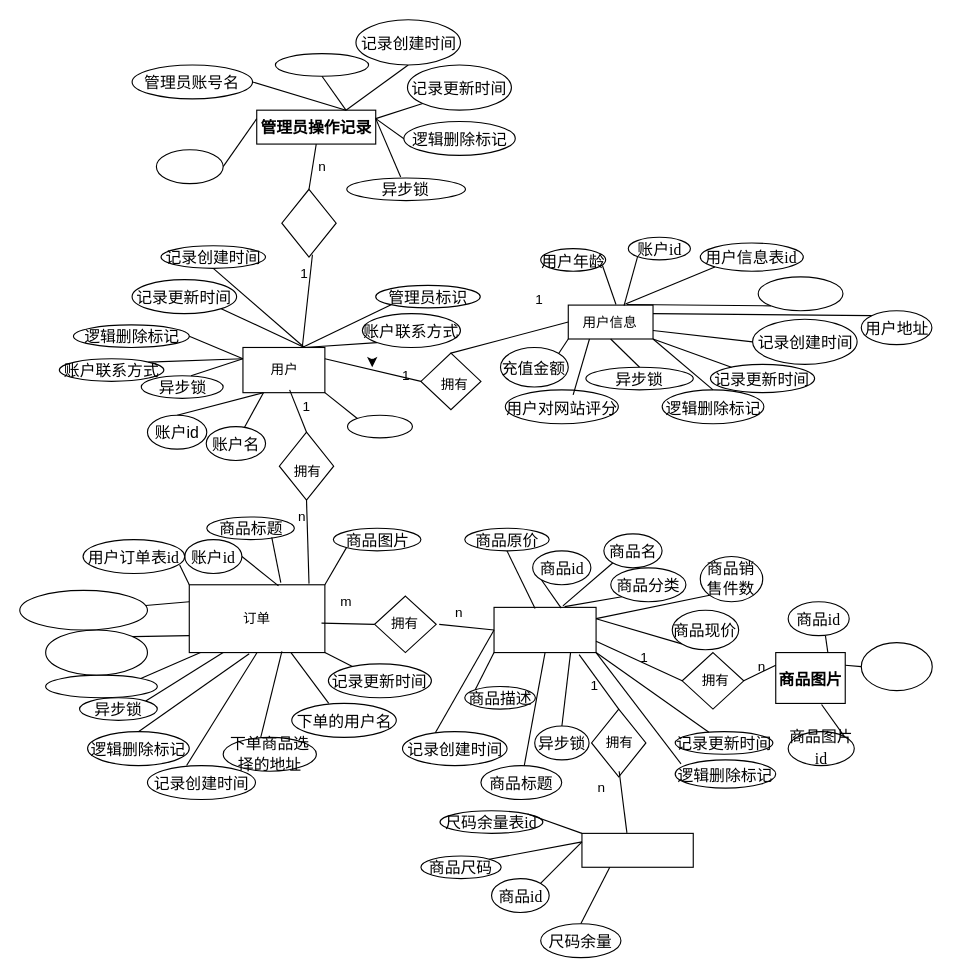
Image size: 953x977. Some labels were removed from this diagram. Here are the shapes that lost their labels. From the top down, the centre of each, then its label:
At [321,64]: "操作名".
At [189,166]: "操作表 id".
At [308,222]: "操作".
At [800,293]: "头像图片 url".
At [379,426]: "账户密码".
At [83,609]: "下单选择的商品尺寸".
At [544,629]: "商品".
At [96,652]: "下单的商品价格".
At [896,666]: "图片地址".
At [101,686]: "用户联系方式".
At [637,849]: "商品尺码余量".
